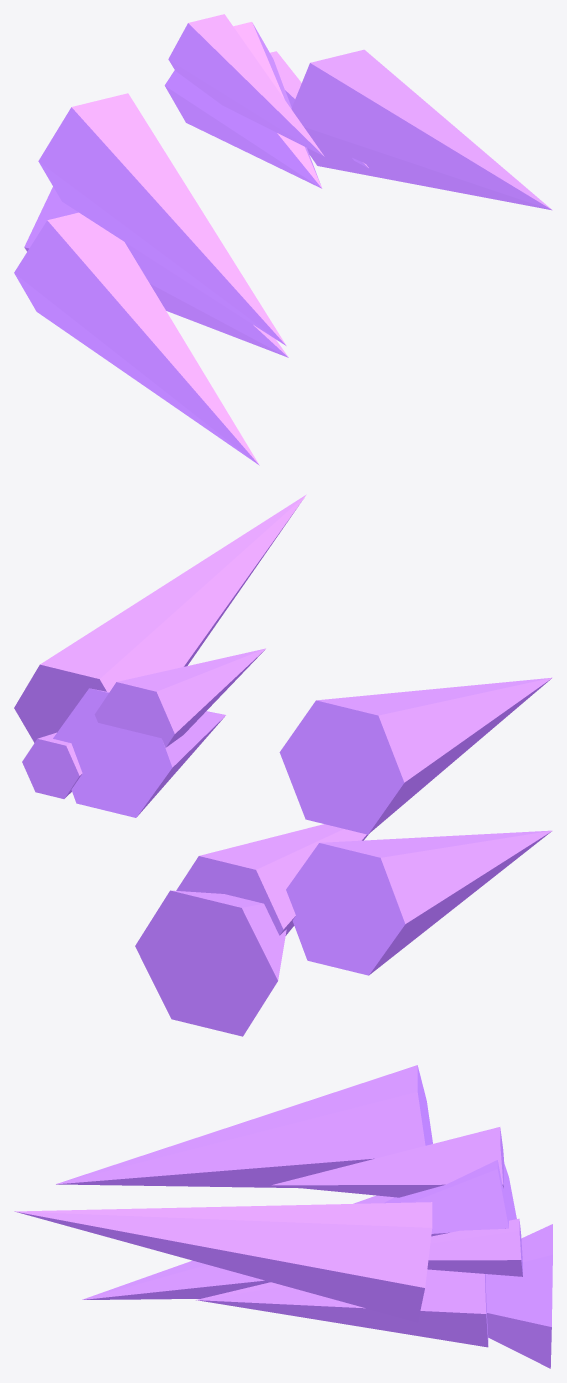
The model's file is Akariz_Crystal_Amethyst.glb.
The picture shows the model from 3 angles, top to bottom: view 1: azimuth 30°, elevation 25°; view 2: azimuth 150°, elevation 25°; view 3: azimuth 270°, elevation 25°; orthographic projection. The views are drawn at different scales.
Parts seen in each view (by area): view 1: Akariz_Crystal_Amethyst_7, Akariz_Crystal_Amethyst_5, Akariz_Crystal_Amethyst_0, Akariz_Crystal_Amethyst_3, Akariz_Crystal_Amethyst_1, Akariz_Crystal_Amethyst_4, Akariz_Crystal_Amethyst_2, Akariz_Crystal_Amethyst_6; view 2: Akariz_Crystal_Amethyst_7, Akariz_Crystal_Amethyst_5, Akariz_Crystal_Amethyst_0, Akariz_Crystal_Amethyst_2, Akariz_Crystal_Amethyst_1, Akariz_Crystal_Amethyst_4, Akariz_Crystal_Amethyst_3, Akariz_Crystal_Amethyst_6; view 3: Akariz_Crystal_Amethyst_0, Akariz_Crystal_Amethyst_7, Akariz_Crystal_Amethyst_4, Akariz_Crystal_Amethyst_3, Akariz_Crystal_Amethyst_2, Akariz_Crystal_Amethyst_1, Akariz_Crystal_Amethyst_6, Akariz_Crystal_Amethyst_5.
Boxes of the visible parts, x1,y1,x2,y2 form: Akariz_Crystal_Amethyst_7: (38,93,286,345); Akariz_Crystal_Amethyst_5: (14,212,259,465); Akariz_Crystal_Amethyst_0: (291,49,552,210); Akariz_Crystal_Amethyst_3: (168,14,324,156); Akariz_Crystal_Amethyst_1: (164,22,322,188); Akariz_Crystal_Amethyst_4: (125,242,288,357); Akariz_Crystal_Amethyst_2: (24,187,78,251); Akariz_Crystal_Amethyst_6: (270,51,369,168); Akariz_Crystal_Amethyst_7: (279,677,552,834); Akariz_Crystal_Amethyst_5: (286,830,552,975); Akariz_Crystal_Amethyst_0: (14,494,306,742); Akariz_Crystal_Amethyst_2: (135,890,286,1036); Akariz_Crystal_Amethyst_1: (53,688,225,817); Akariz_Crystal_Amethyst_4: (176,824,368,935); Akariz_Crystal_Amethyst_3: (94,648,265,747); Akariz_Crystal_Amethyst_6: (22,732,82,798); Akariz_Crystal_Amethyst_0: (14,1202,432,1322); Akariz_Crystal_Amethyst_7: (56,1065,432,1188); Akariz_Crystal_Amethyst_4: (196,1269,488,1347); Akariz_Crystal_Amethyst_3: (272,1127,504,1197); Akariz_Crystal_Amethyst_2: (485,1224,552,1368); Akariz_Crystal_Amethyst_1: (384,1160,516,1236); Akariz_Crystal_Amethyst_6: (427,1218,522,1276); Akariz_Crystal_Amethyst_5: (82,1195,393,1299).
Size of the model in its own units: 1.77 by 1.23 by 2.31.
